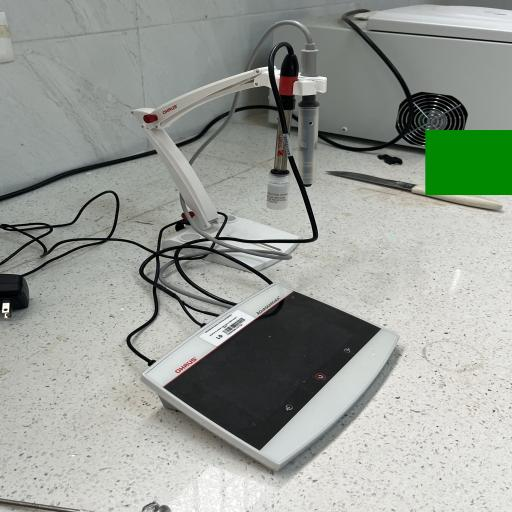Phmetro_Ohaus: (120, 276, 440, 480)
